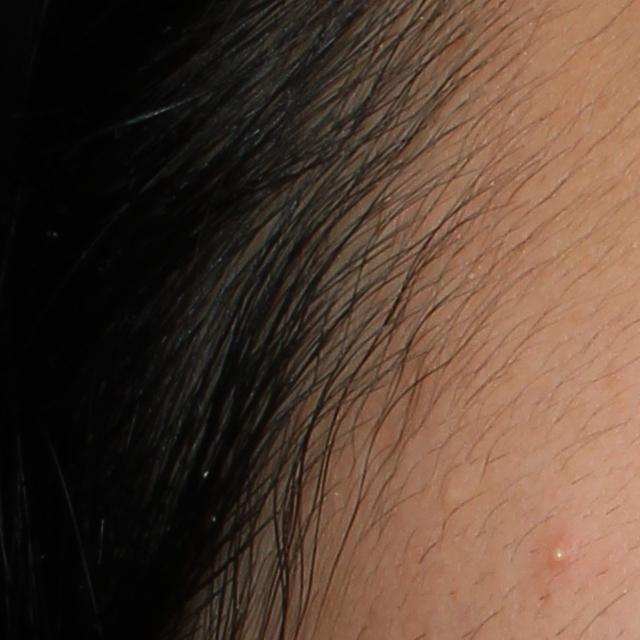comedo: (434, 477, 465, 507)
pustule: (543, 537, 573, 571)
